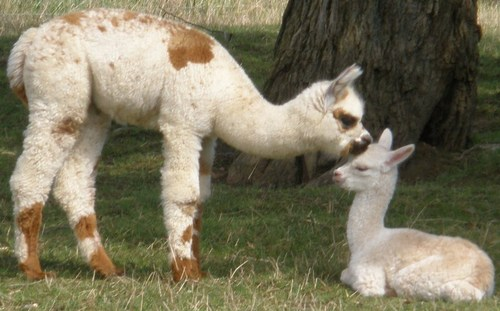alpaca: (6, 7, 374, 280), (330, 127, 495, 300)
